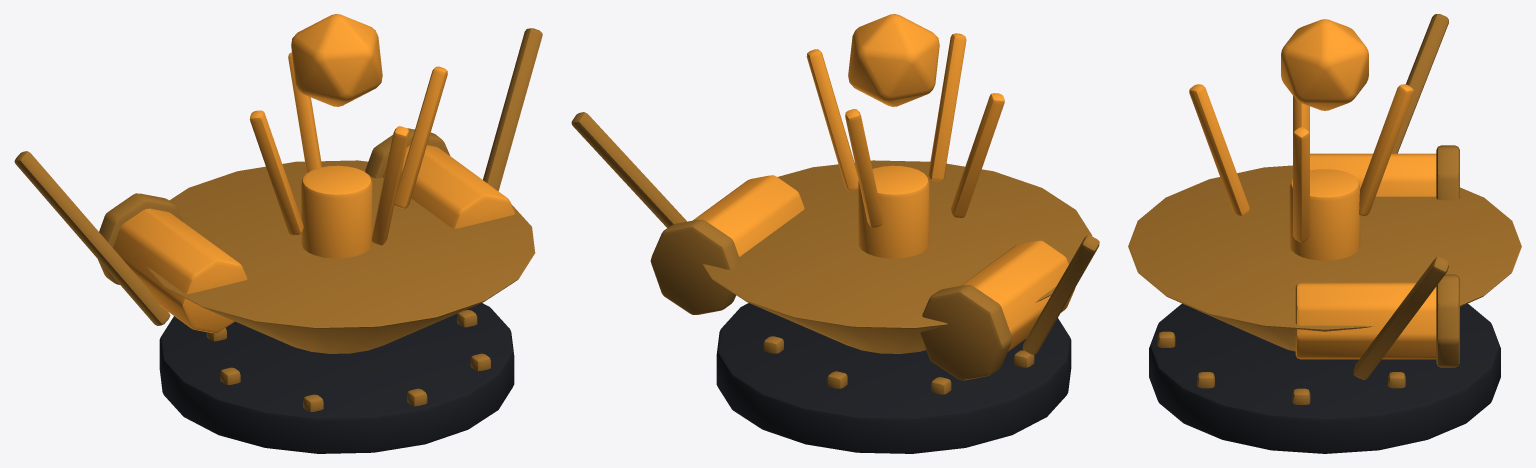
The model's file is BranchA1.obj.
3 views of the same model, side by side, from view 1: azimuth 30°, elevation 25°; view 2: azimuth 150°, elevation 25°; view 3: azimuth 270°, elevation 25° (orthographic).
Visible parts, largest first — view 1: BranchA1; view 2: BranchA1; view 3: BranchA1.
Boxes of the visible parts, left/top/right/bottom form: BranchA1: left=14, top=14, right=542, bottom=453; BranchA1: left=571, top=14, right=1099, bottom=453; BranchA1: left=1128, top=14, right=1521, bottom=453.
Bounding box in the file's own units: 1.02 × 0.6794 × 0.6713.
